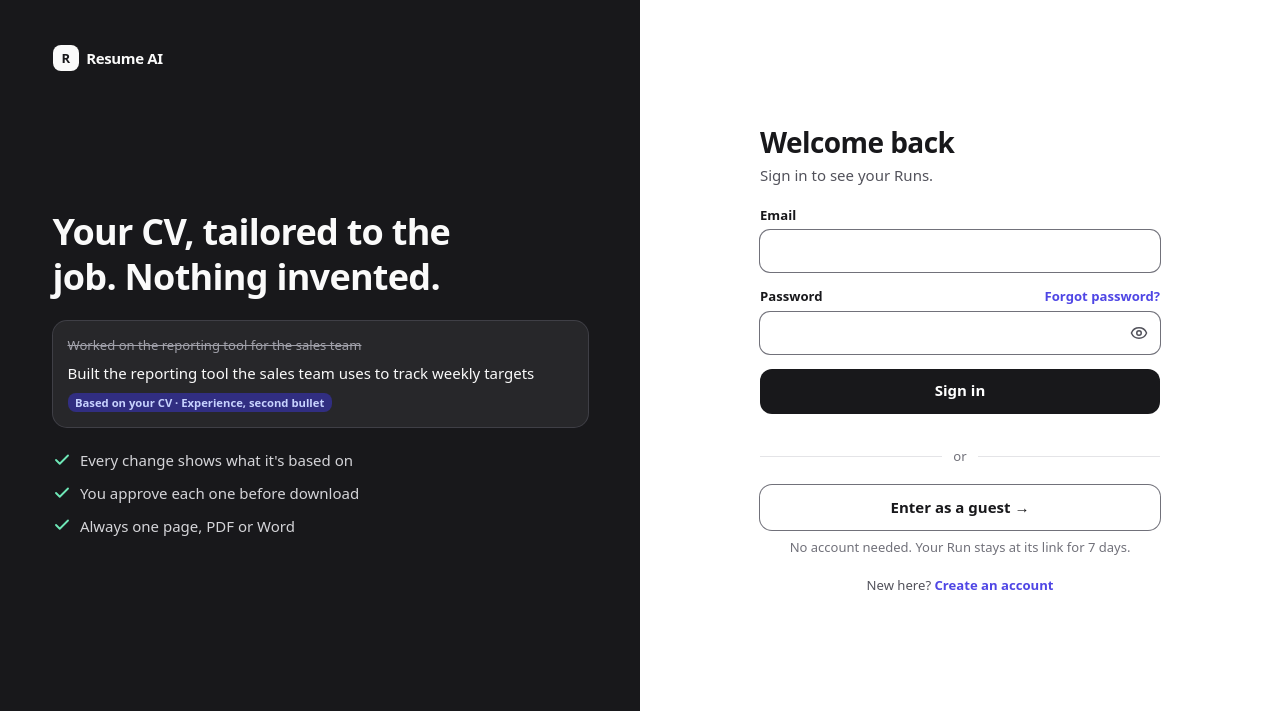
Test case: Sign in › Enter as a guest goes to Upload
Click the link "Enter as a guest →": point(960, 507) top-left (760, 485), bottom-right (1160, 530)
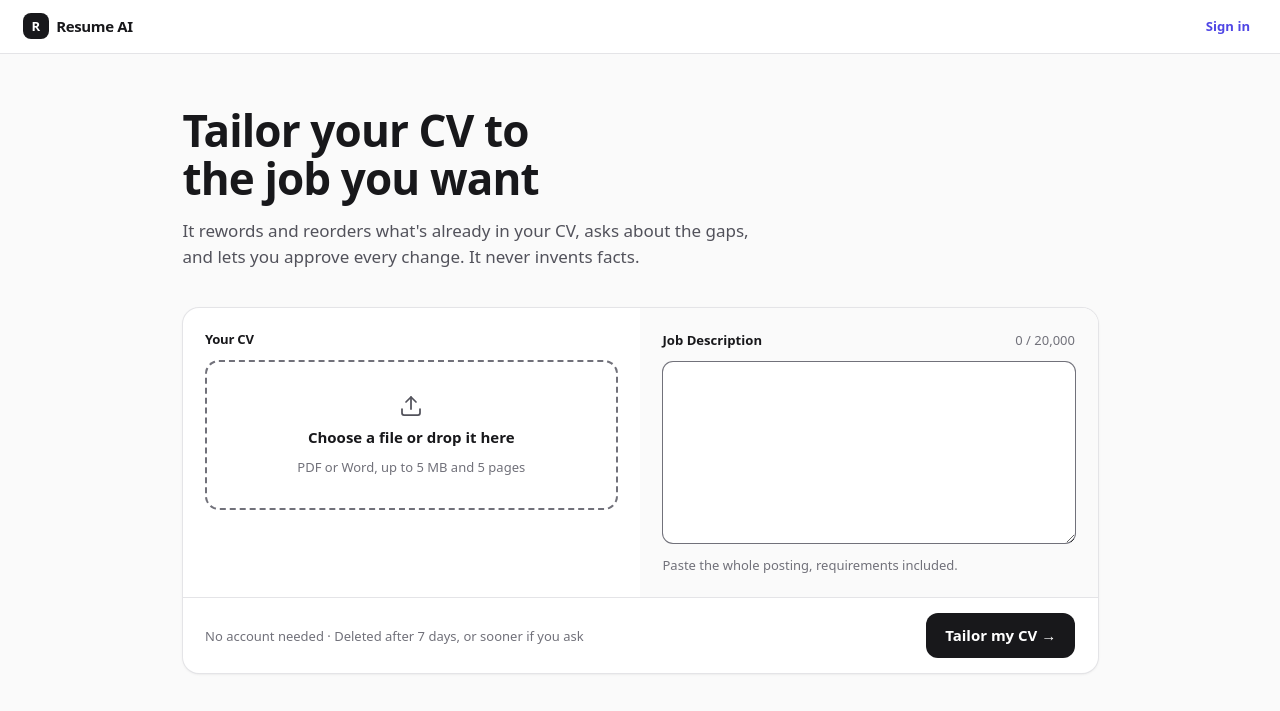
Check: the heading "Tailor your CV to the job you want" is shown, box top-left (182, 106), bottom-right (585, 203)
